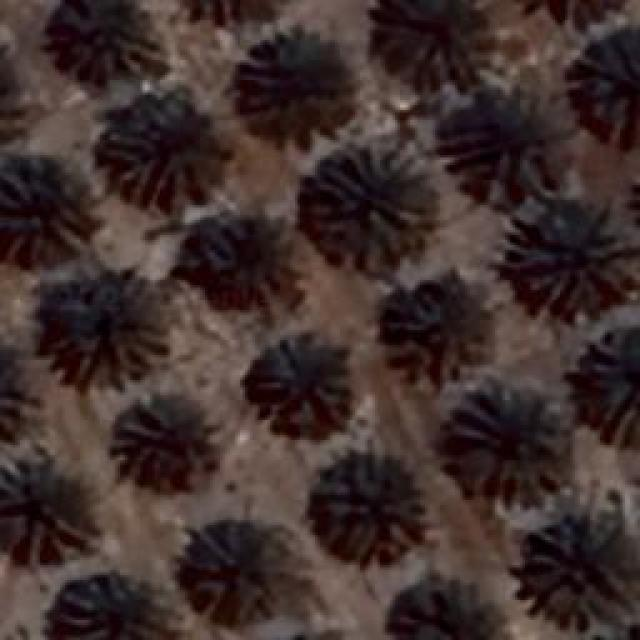PalmTree: (73, 108, 241, 572), (297, 145, 435, 270), (14, 116, 73, 391), (448, 380, 572, 498), (507, 200, 635, 310), (528, 507, 638, 635), (50, 270, 170, 385), (308, 450, 428, 562), (100, 110, 222, 205), (107, 392, 220, 492), (455, 94, 560, 196), (248, 36, 356, 134), (250, 330, 350, 435), (48, 0, 150, 90), (52, 570, 186, 638), (382, 570, 510, 638), (395, 284, 490, 374), (178, 212, 278, 296), (572, 20, 638, 145), (0, 148, 85, 242), (382, 0, 479, 82), (8, 458, 86, 558), (587, 327, 635, 445), (0, 41, 28, 149), (170, 0, 288, 20), (508, 0, 630, 19), (0, 45, 18, 152)
